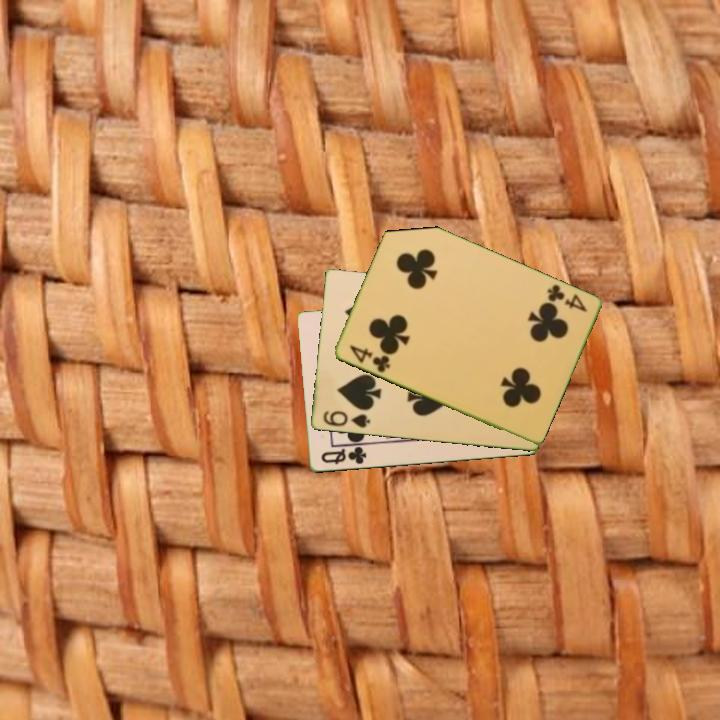4c: (346, 342, 393, 376), (543, 281, 590, 315)
6s: (319, 407, 373, 431)
Qc: (317, 443, 369, 468)
